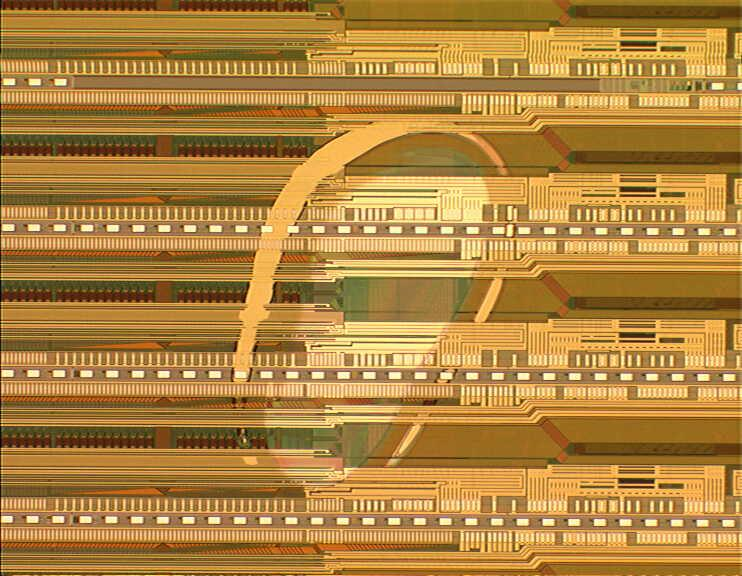COATING BAD: (222, 109, 527, 516)
